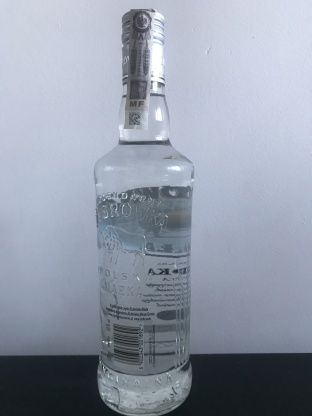nakretka: (118, 3, 168, 89)
